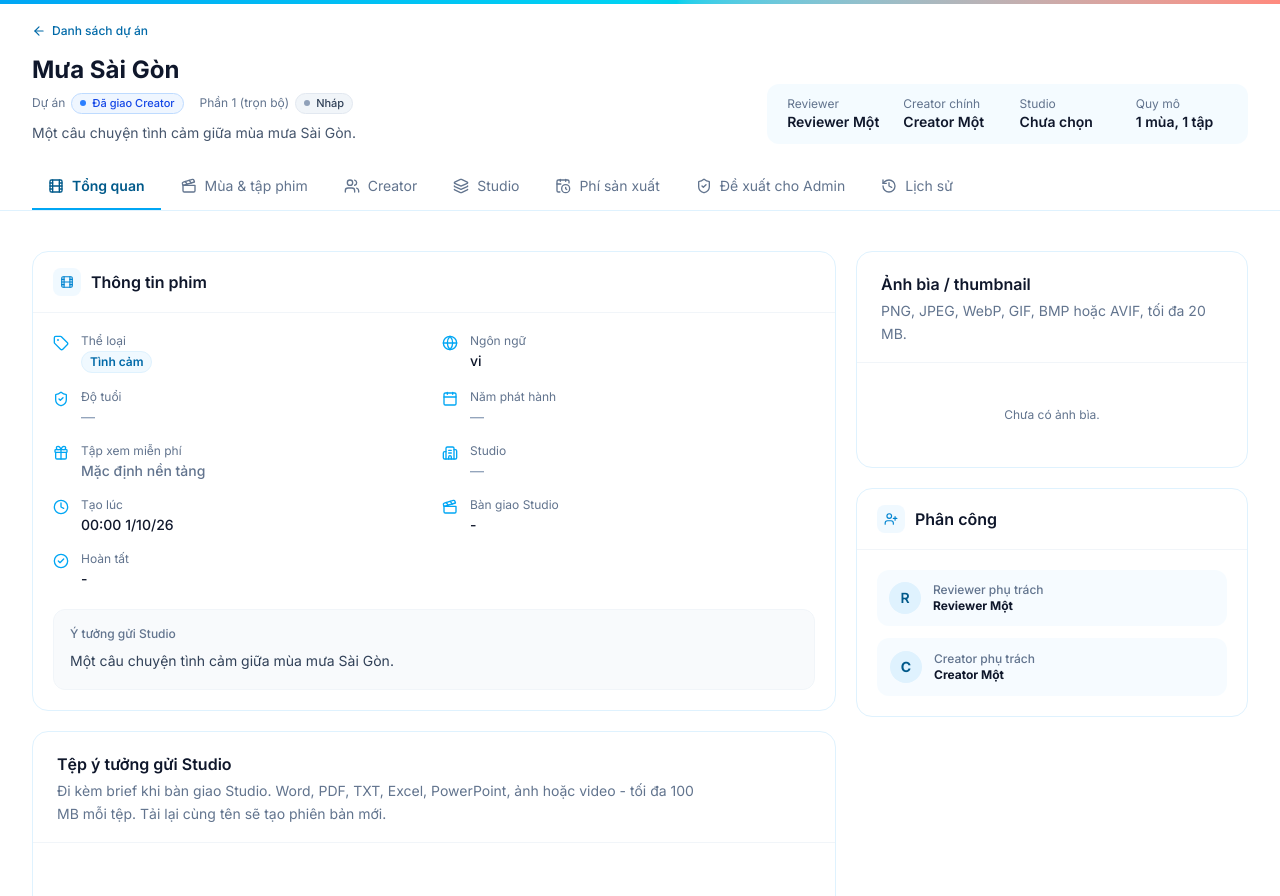
Scenario: ProjectDetailPage › gives the Admin the decision on requests but no edit, cancel or reassign (BR-55)
The image size is (1280, 896).
Check: the heading "Mưa Sài Gòn" is shown, box [32,55,179,84]
Click the tab "Đề xuất cho Admin" at (771, 187), box [680,164,861,210]
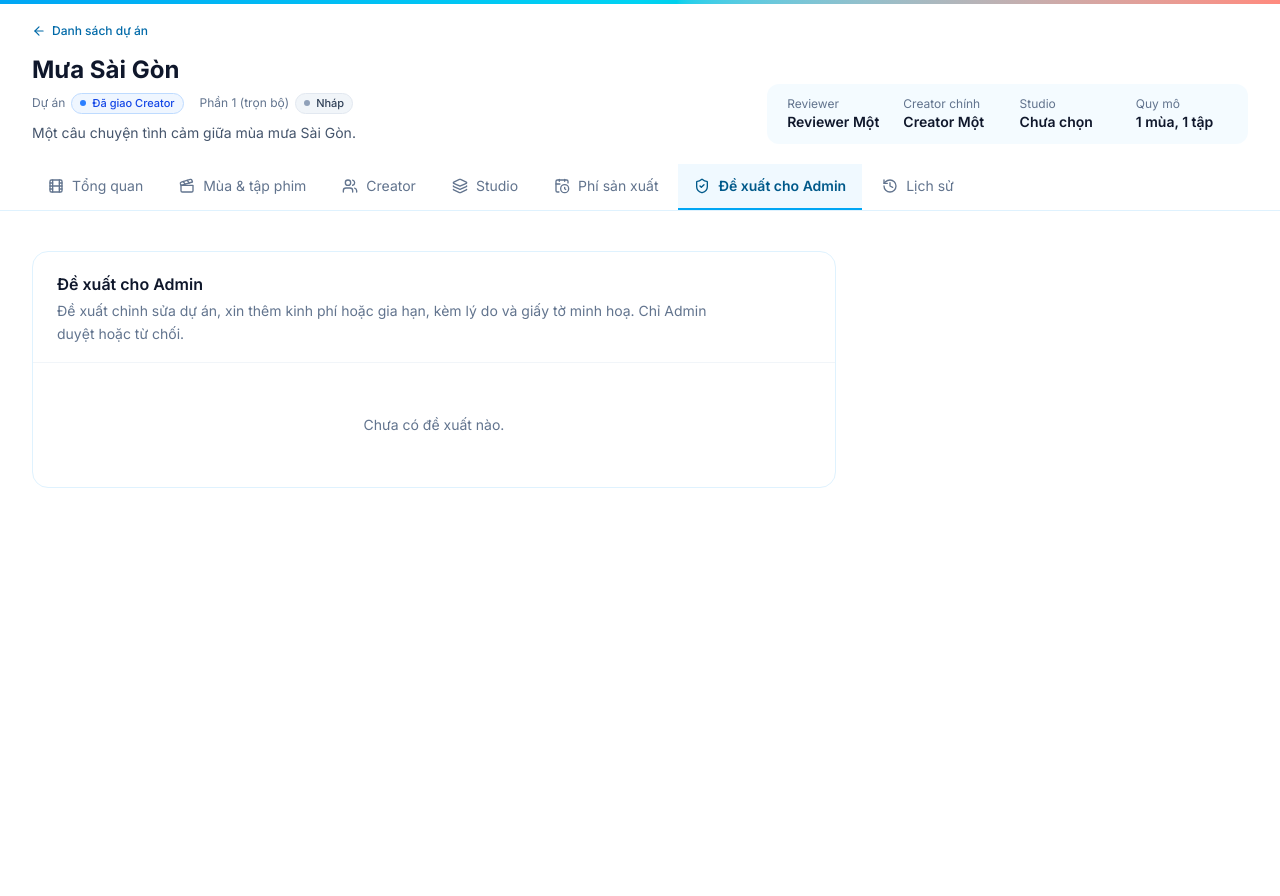
Check: the text "Chưa có đề xuất nào." is shown, box [364,416,504,433]
